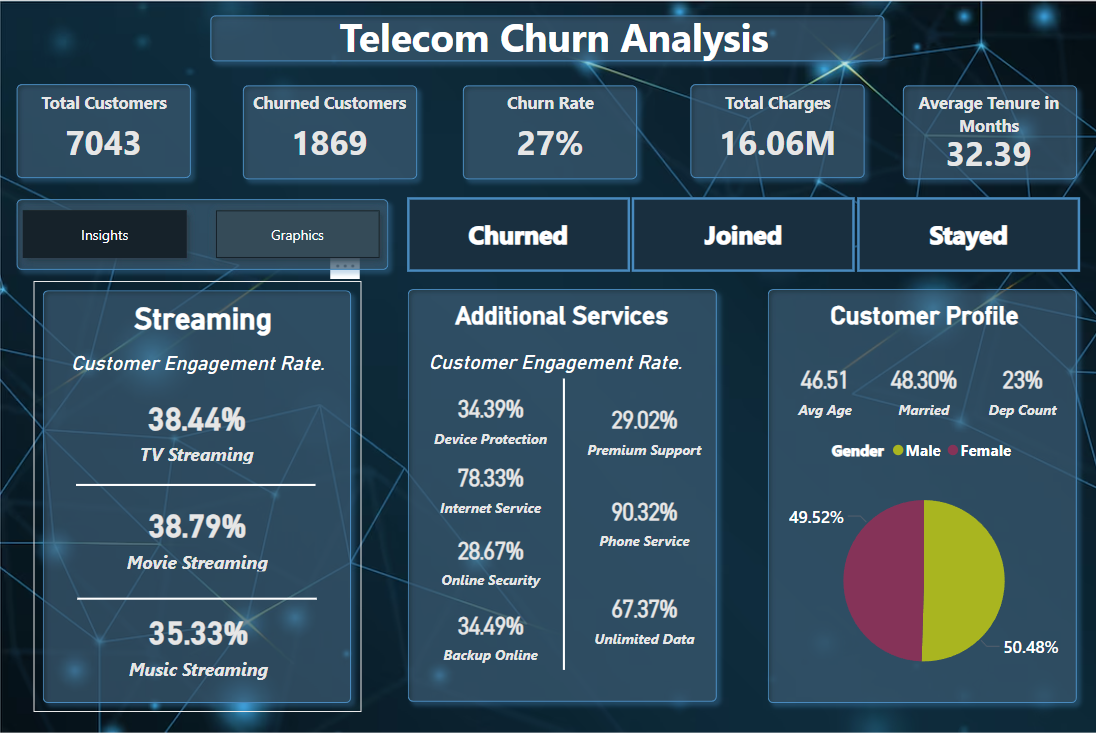

The dashboard page shown, as its layout file describes it:
{"tool":"powerbi","page":{"name":"Insights","canvas":[1280,720],"ordinal":0},"visuals":[{"type":"shape","box":[117.5,76.5,186.2,108.8],"z":0},{"type":"shape","box":[335,77.7,186.2,108.8],"z":1000},{"type":"shape","box":[547.5,77.7,186.2,108.8],"z":2000},{"type":"shape","box":[767.5,75.9,186.2,108.8],"z":3000},{"type":"shape","box":[142.8,274.8,315.6,416.3],"z":4000},{"type":"shape","box":[842.5,273.8,316.2,417.5],"z":5000},{"type":"shape","box":[972.5,77.7,186.2,108.8],"z":6000},{"type":"shape","box":[303.8,10,668.8,62.5],"z":7000},{"type":"card","title":"Total Customers","fields":{"Values":[" Measures.Total Customers"]},"box":[131.2,91.2,157.5,78.8],"z":8000},{"type":"card","title":"Churned Customers","fields":{"Values":[" Measures.Churned"]},"box":[348.8,91.2,158.8,77.5],"z":9000},{"type":"card","title":"Churn Rate","fields":{"Values":[" Measures.Churned Rate"]},"box":[562.2,91.7,158,78.4],"z":10000},{"type":"card","title":"Total Charges","fields":{"Values":["Sum(telco.Total Charges)"]},"box":[781.2,91.2,157.5,78.8],"z":11000},{"type":"card","title":"Average Tenure in Months","fields":{"Values":[" Measures.Avg Tenure Months"]},"box":[986.2,91.2,157.5,78.8],"z":12000},{"type":"textbox","box":[150.1,339.1,302.5,31.2],"z":13000},{"type":"textbox","box":[219.6,289.2,172.8,50.4],"z":14000},{"type":"shape","box":[495,273.8,316.2,416.2],"z":15000},{"type":"textbox","box":[494.7,337.5,302.5,31.2],"z":16000},{"type":"textbox","box":[539.3,289.5,225.6,39.8],"z":17000},{"type":"card","fields":{"Values":[" Measures.TV_Streaming"]},"box":[237.5,378.8,125,77.5],"z":18000},{"type":"card","fields":{"Values":[" Measures.Movie_Streaming"]},"box":[226.2,482.5,147.5,77.5],"z":19000},{"type":"card","fields":{"Values":[" Measures.Music_Streaming"]},"box":[227.6,581.6,147.5,86.2],"z":20000},{"type":"shape","box":[183.8,431.6,231.2,80],"z":21000},{"type":"shape","box":[185.1,541.6,231.2,80],"z":22000},{"type":"shape","box":[503.8,369.7,300,281.2],"z":23000},{"type":"card","fields":{"Values":[" Measures.Device Protection"]},"box":[521.2,368.5,125,77.5],"z":24000},{"type":"card","fields":{"Values":[" Measures.Internet Service"]},"box":[521.2,437.2,125,73.8],"z":25000},{"type":"card","fields":{"Values":[" Measures.Online Security"]},"box":[521.2,507.2,125,73.8],"z":26000},{"type":"card","fields":{"Values":[" Measures.Backup Online"]},"box":[521.2,581,125,68.8],"z":27000},{"type":"card","fields":{"Values":[" Measures.Premium Support"]},"box":[670,378.5,125,77.5],"z":28000},{"type":"card","fields":{"Values":[" Measures.Phone Service"]},"box":[670,467.2,125,77.5],"z":29000},{"type":"card","fields":{"Values":[" Measures.Unlimited Data"]},"box":[670,561,125,77.5],"z":30000},{"type":"textbox","box":[890.3,289.2,224.4,39.6],"z":31000},{"type":"card","fields":{"Values":[" Measures.Average Age"]},"box":[860,340,92.5,77.5],"z":32000},{"type":"card","fields":{"Values":[" Measures.Married Percentage"]},"box":[955,340,92.5,77.5],"z":33000},{"type":"card","fields":{"Values":[" Measures.Dep Count"]},"box":[1051.2,340,92.5,77.5],"z":34000},{"type":"pieChart","fields":{"Category":["telco.Gender"],"Y":[" Measures.Total Customers"]},"box":[860,417.5,283.8,262.5],"z":35000},{"type":"slicer","fields":{"Values":["telco.Customer Status"]},"box":[476.2,187.5,700,86.2],"z":36000},{"type":"textbox","box":[370.2,9.5,548.8,61.9],"z":37000},{"type":"shape","box":[117.6,187.2,376.8,86.4],"z":38000},{"type":"pageNavigator","box":[123.6,198,363.6,64.8],"z":39000}]}

Visuals, with their boxes on the page's 1280x720 design canvas (x1, y1, x2, y2). These are canvas units, not pixel positions in the 1096x735 screenshot, which may show the page scaled, cropped or inside an application window:
shape: Rect(118, 76, 304, 185)
shape: Rect(335, 78, 521, 186)
shape: Rect(548, 78, 734, 186)
shape: Rect(768, 76, 954, 185)
shape: Rect(143, 275, 458, 691)
shape: Rect(842, 274, 1159, 691)
shape: Rect(972, 78, 1159, 186)
shape: Rect(304, 10, 973, 72)
"Total Customers" card: Rect(131, 91, 289, 170)
"Churned Customers" card: Rect(349, 91, 508, 169)
"Churn Rate" card: Rect(562, 92, 720, 170)
"Total Charges" card: Rect(781, 91, 939, 170)
"Average Tenure in Months" card: Rect(986, 91, 1144, 170)
textbox: Rect(150, 339, 453, 370)
textbox: Rect(220, 289, 392, 340)
shape: Rect(495, 274, 811, 690)
textbox: Rect(495, 338, 797, 369)
textbox: Rect(539, 290, 765, 329)
card -  Measures.TV_Streaming: Rect(238, 379, 362, 456)
card -  Measures.Movie_Streaming: Rect(226, 482, 374, 560)
card -  Measures.Music_Streaming: Rect(228, 582, 375, 668)
shape: Rect(184, 432, 415, 512)
shape: Rect(185, 542, 416, 622)
shape: Rect(504, 370, 804, 651)
card -  Measures.Device Protection: Rect(521, 368, 646, 446)
card -  Measures.Internet Service: Rect(521, 437, 646, 511)
card -  Measures.Online Security: Rect(521, 507, 646, 581)
card -  Measures.Backup Online: Rect(521, 581, 646, 650)
card -  Measures.Premium Support: Rect(670, 378, 795, 456)
card -  Measures.Phone Service: Rect(670, 467, 795, 545)
card -  Measures.Unlimited Data: Rect(670, 561, 795, 638)
textbox: Rect(890, 289, 1115, 329)
card -  Measures.Average Age: Rect(860, 340, 952, 418)
card -  Measures.Married Percentage: Rect(955, 340, 1048, 418)
card -  Measures.Dep Count: Rect(1051, 340, 1144, 418)
pieChart - telco.Gender x  Measures.Total Customers: Rect(860, 418, 1144, 680)
slicer - telco.Customer Status: Rect(476, 188, 1176, 274)
textbox: Rect(370, 10, 919, 71)
shape: Rect(118, 187, 494, 274)
pageNavigator: Rect(124, 198, 487, 263)
